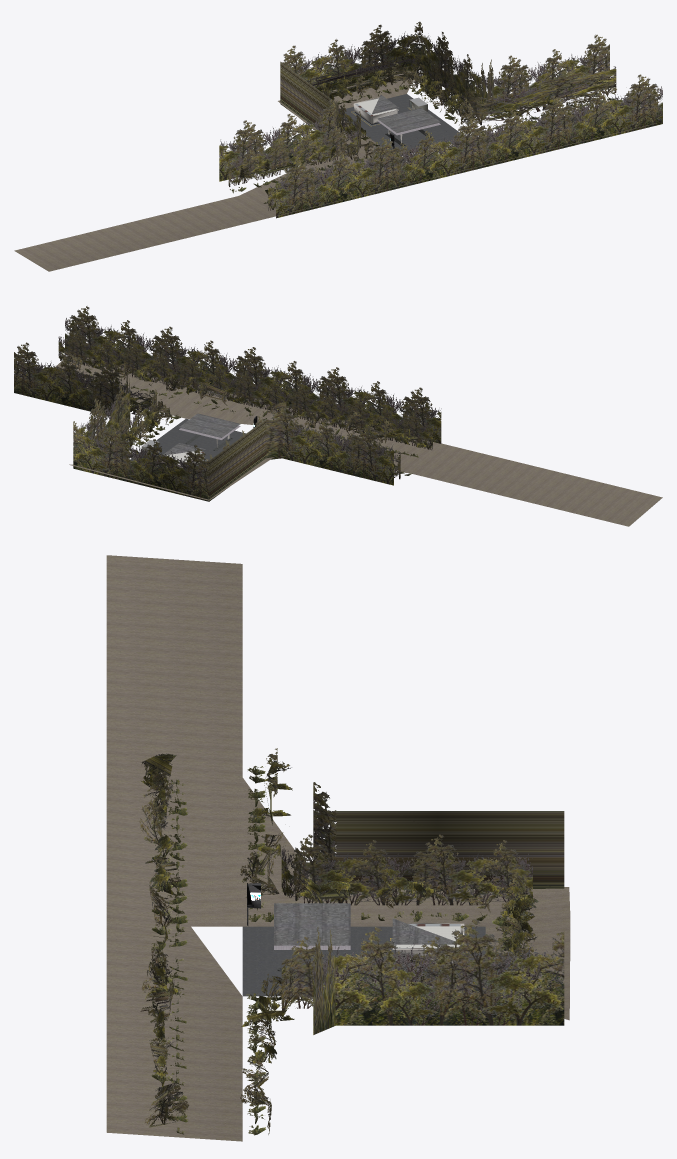
Rendered from highway-gas-station.glb.
The picture shows the model from 3 angles, top to bottom: view 1: azimuth 30°, elevation 25°; view 2: azimuth 150°, elevation 25°; view 3: azimuth 270°, elevation 25°; orthographic projection. The views are drawn at different scales.
Visible parts, largest first — view 1: object 6, object 7, object 2, object 1, Trees_004, Trees_002; view 2: object 6, object 7, object 2, object 1, Trees_002; view 3: object 7, object 6, object 2, object 1, Trees_004.
Boxes of the visible parts, x1,y1,x2,y2 form: object 6: [219, 21, 662, 218]; object 7: [14, 66, 656, 271]; object 2: [353, 95, 440, 142]; object 1: [338, 94, 460, 155]; Trees_004: [319, 62, 411, 100]; Trees_002: [407, 69, 474, 125]; object 6: [14, 306, 441, 501]; object 7: [47, 354, 662, 526]; object 2: [163, 413, 240, 467]; object 1: [130, 418, 245, 470]; Trees_002: [113, 402, 172, 450]; object 7: [106, 555, 570, 1141]; object 6: [139, 748, 564, 1135]; object 2: [274, 903, 464, 964]; object 1: [242, 926, 485, 996]; Trees_004: [495, 873, 541, 978].
Bounding box in the file's own units: 300 × 27.24 × 101.
35 materials, 34 textured.
